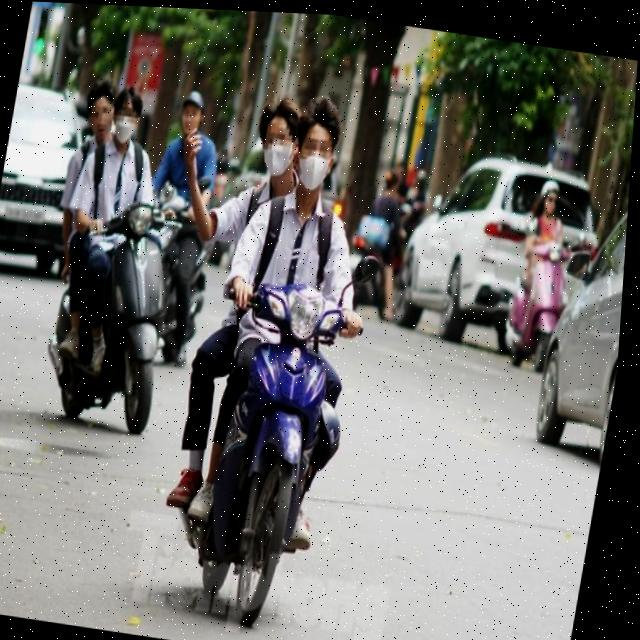car: (386, 143, 602, 363), (523, 177, 630, 478), (0, 72, 103, 289)
motorcycle: (156, 259, 380, 640), (26, 181, 204, 455)
